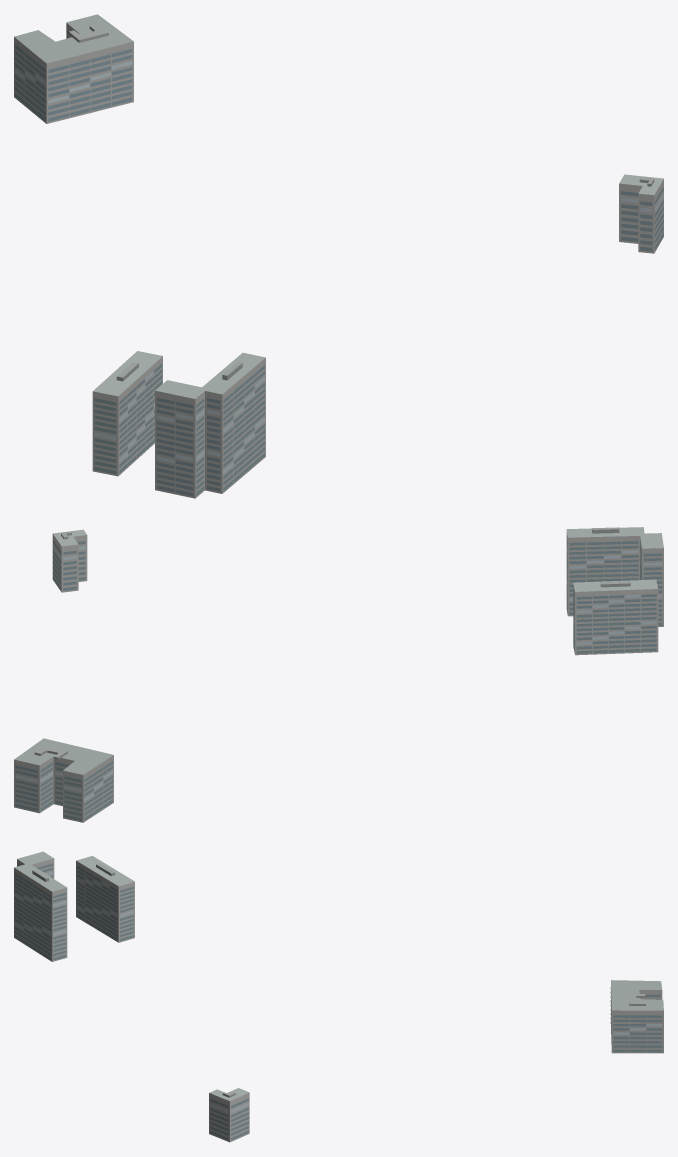
File: apt-a10027817.glb
3 views of the same model, one above another, from view 1: azimuth 30°, elevation 25°; view 2: azimuth 150°, elevation 25°; view 3: azimuth 270°, elevation 25° (orthographic). The views are drawn at different scales.
Visible parts, largest first — view 1: apt-a10027817; view 2: apt-a10027817; view 3: apt-a10027817.
Boxes of the visible parts, left/top/right/bottom form: apt-a10027817: left=14, top=14, right=663, bottom=498; apt-a10027817: left=14, top=527, right=663, bottom=822; apt-a10027817: left=14, top=851, right=663, bottom=1142.
Size of the model in its own units: 309 by 46 by 368.
